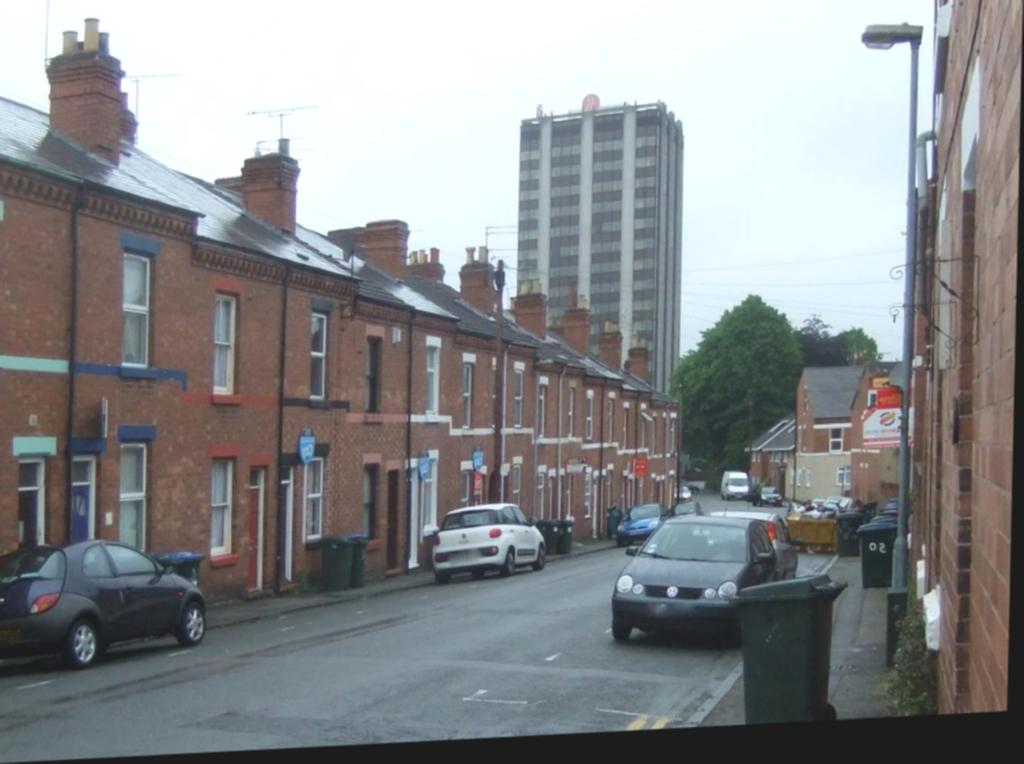License_Plate: (457, 551, 478, 561)
